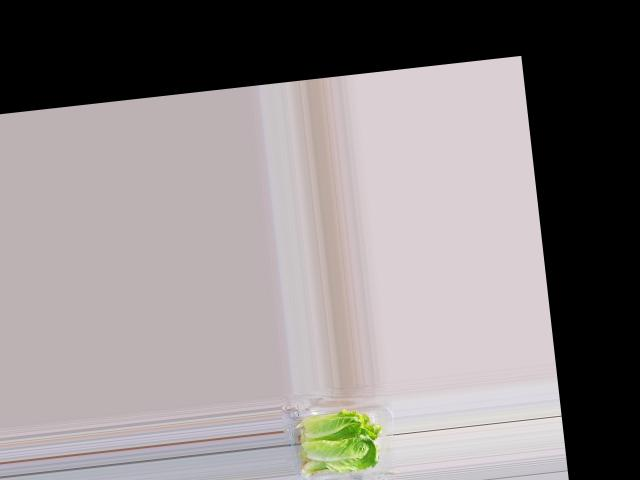lettuce: (299, 406, 385, 476)
